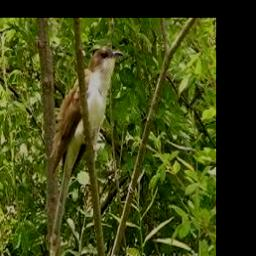Cuckoo: (50, 48, 124, 173)
